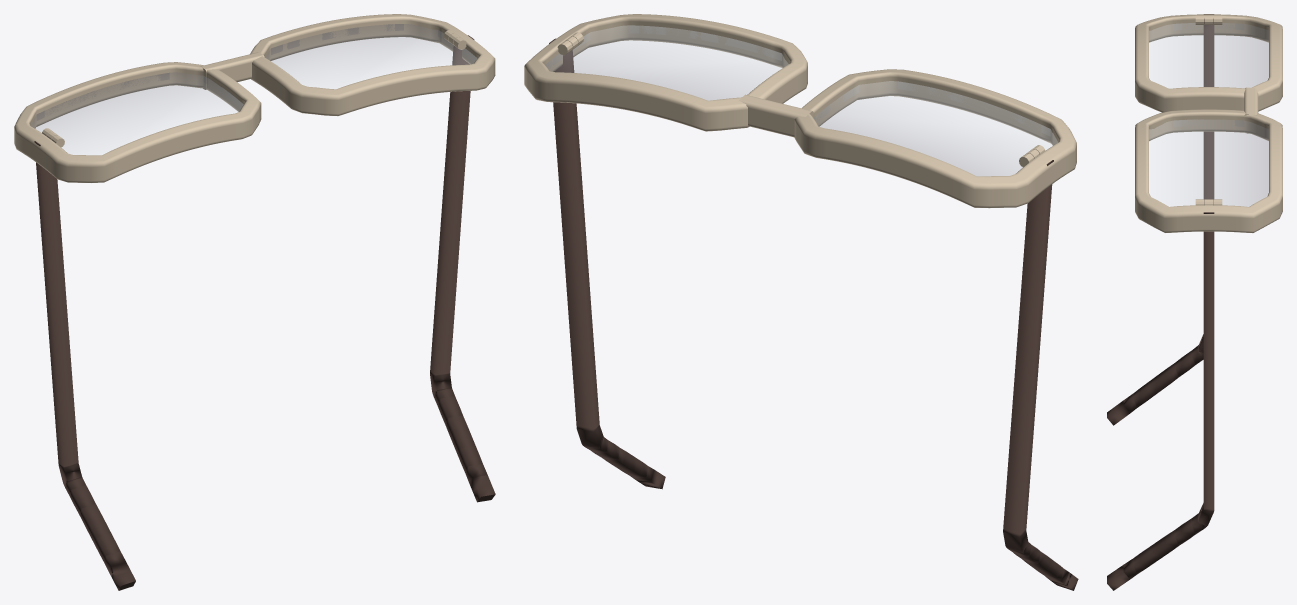
The model's file is rect-metal.glb.
3 views of the same model, side by side, from view 1: azimuth 30°, elevation 25°; view 2: azimuth 150°, elevation 25°; view 3: azimuth 270°, elevation 25° (orthographic). The views are drawn at different scales.
Visible parts, largest first — view 1: MEL_eyewear_Frame, MEL_eyewear_LensL, MEL_eyewear_TempleR, MEL_eyewear_TempleL, MEL_eyewear_LensR; view 2: MEL_eyewear_Frame, MEL_eyewear_LensL, MEL_eyewear_LensR, MEL_eyewear_TempleL, MEL_eyewear_TempleR; view 3: MEL_eyewear_Frame, MEL_eyewear_LensR, MEL_eyewear_LensL, MEL_eyewear_TempleL, MEL_eyewear_TempleR.
Boxes of the visible parts, bbox=[...] form: MEL_eyewear_Frame: bbox=[14, 14, 495, 182]; MEL_eyewear_LensL: bbox=[31, 72, 243, 154]; MEL_eyewear_TempleR: bbox=[34, 141, 135, 590]; MEL_eyewear_TempleL: bbox=[430, 35, 495, 502]; MEL_eyewear_LensR: bbox=[265, 24, 477, 88]; MEL_eyewear_Frame: bbox=[524, 14, 1076, 208]; MEL_eyewear_LensL: bbox=[814, 81, 1057, 175]; MEL_eyewear_LensR: bbox=[545, 25, 788, 100]; MEL_eyewear_TempleL: bbox=[549, 38, 665, 489]; MEL_eyewear_TempleR: bbox=[1003, 160, 1078, 590]; MEL_eyewear_Frame: bbox=[1135, 14, 1282, 233]; MEL_eyewear_LensR: bbox=[1149, 119, 1268, 206]; MEL_eyewear_LensL: bbox=[1149, 23, 1268, 88]; MEL_eyewear_TempleL: bbox=[1107, 212, 1214, 590]; MEL_eyewear_TempleR: bbox=[1107, 14, 1214, 425].
Bounding box in the file's own units: 0.134 × 0.1274 × 0.0499.
